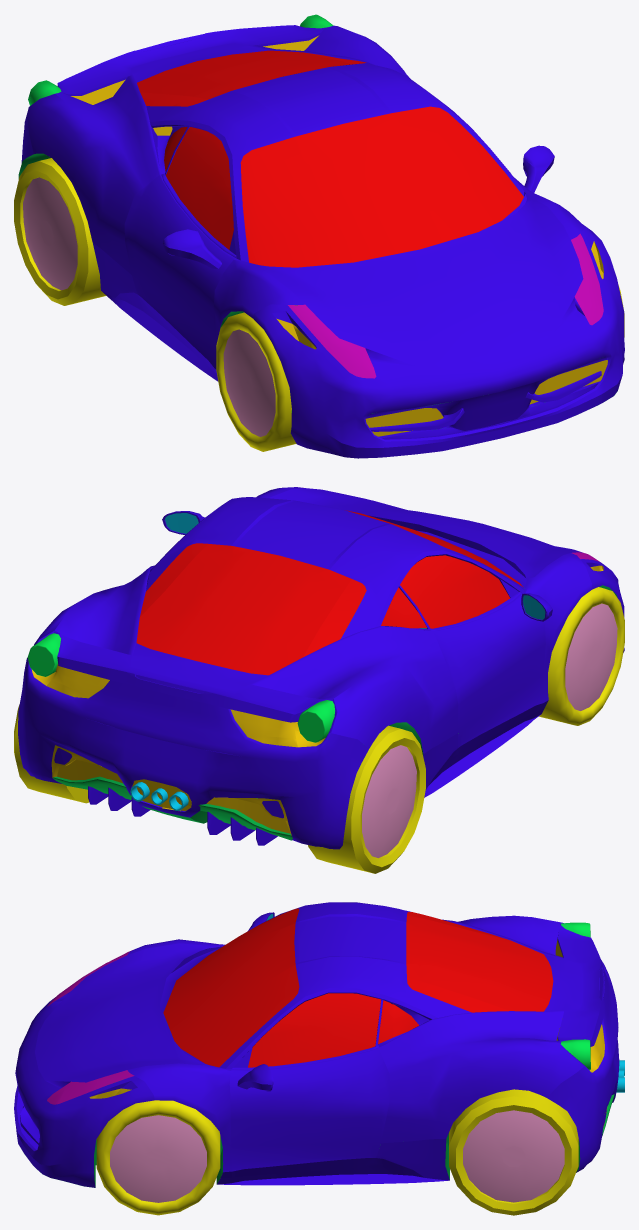
The model's file is Car13_ColorCoded.fbx.
The picture shows the model from 3 angles, top to bottom: view 1: azimuth 30°, elevation 25°; view 2: azimuth 150°, elevation 25°; view 3: azimuth 270°, elevation 25°; orthographic projection. The views are drawn at different scales.
Visible parts, largest first — view 1: carBody, tireBackR, tireFrontR; view 2: carBody, tireBackR, tireFrontR, tireBackL; view 3: carBody, tireBackL, tireFrontL.
Boxes of the visible parts, <box> form: carBody: <box>18,14,624,458</box>; tireBackR: <box>14,158,106,305</box>; tireFrontR: <box>216,312,296,451</box>; carBody: <box>18,487,624,849</box>; tireBackR: <box>308,725,425,873</box>; tireFrontR: <box>539,587,624,725</box>; tireBackL: <box>14,704,89,803</box>; carBody: <box>14,902,624,1187</box>; tireBackL: <box>449,1089,578,1215</box>; tireFrontL: <box>96,1100,220,1215</box>.
Size of the model in its own units: 71.92 by 111 by 41.65.
